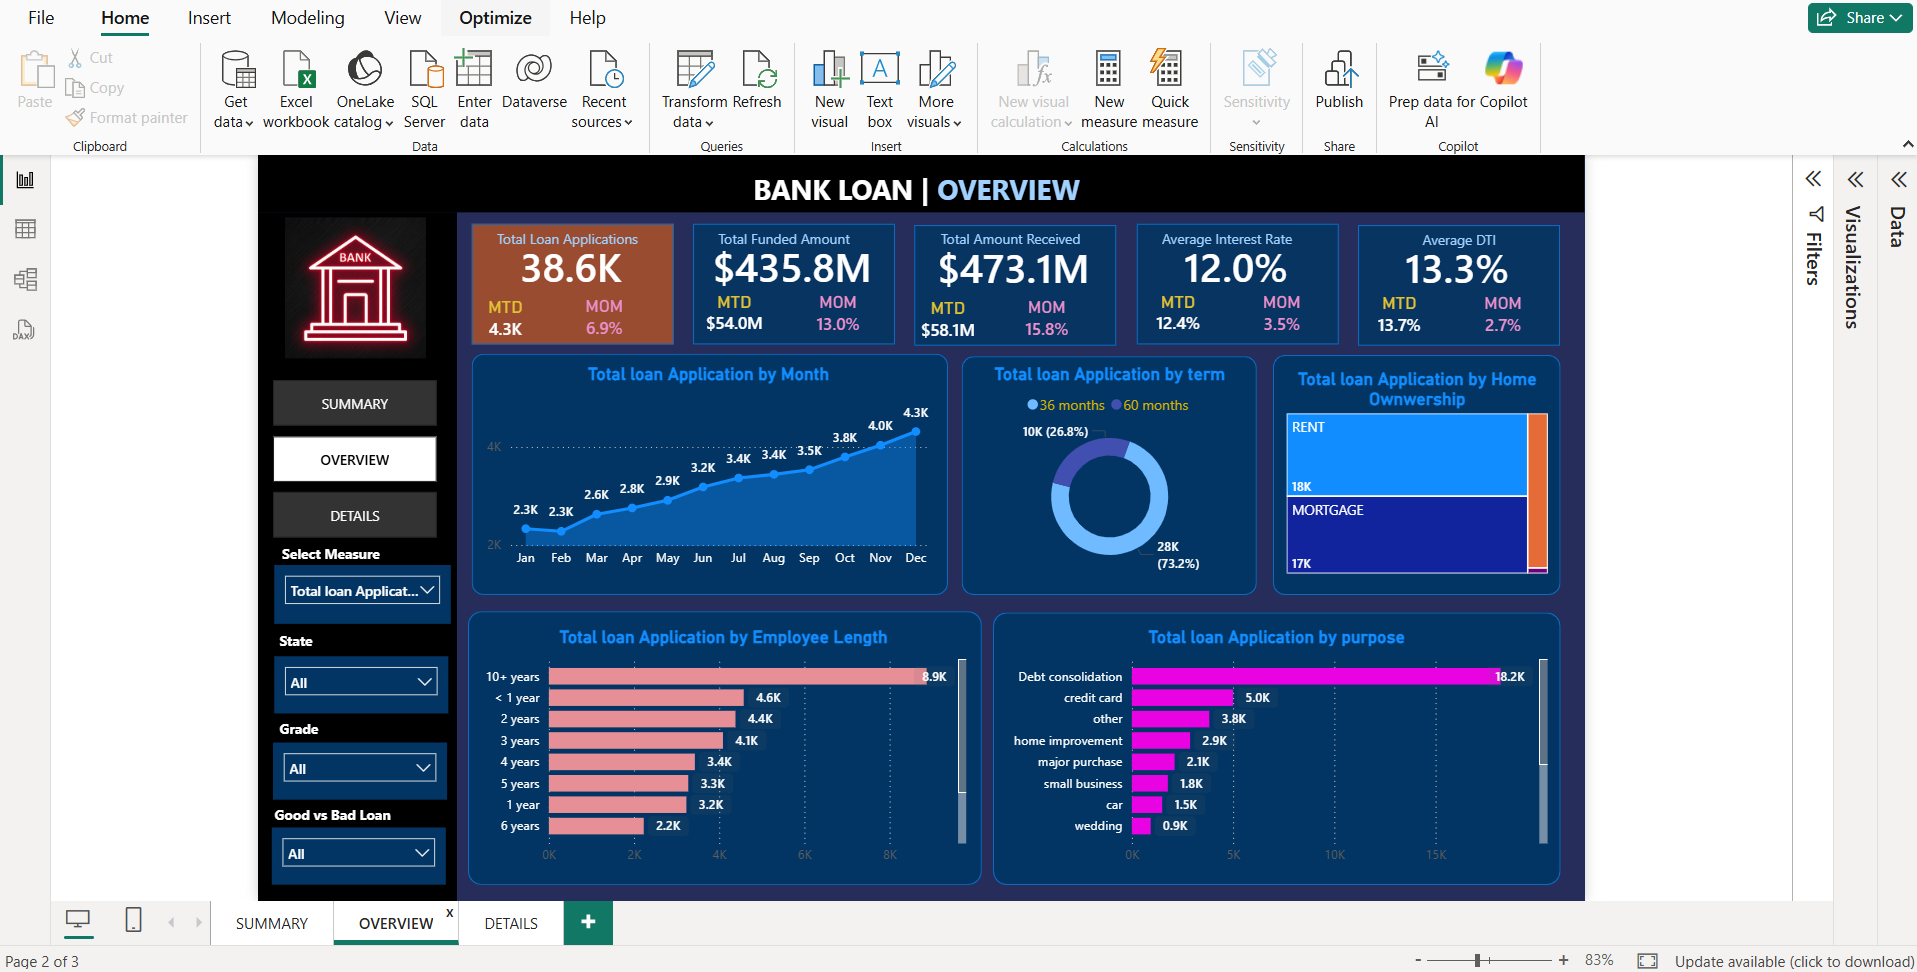

The page's visual inventory and layout, read from the dashboard file:
{"tool":"powerbi","page":{"name":"OVERVIEW","canvas":[1280,720],"ordinal":1},"visuals":[{"type":"shape","box":[0,55.3,191.8,664.7],"z":0},{"type":"shape","box":[0,0,1280,55.5],"z":1000},{"type":"group","id":"g1","title":"Group 1","box":[193.8,66.7,216.1,117.3],"z":2000},{"type":"shape","box":[206.1,66.7,195,116.5],"z":3000,"group":"g1"},{"type":"group","id":"g2","title":"Group 1","box":[407.7,66.7,216.1,116],"z":3000},{"type":"shape","box":[420,66.7,195,116.5],"z":3000,"group":"g2"},{"type":"shape","box":[847.8,66.7,195,116.5],"z":3000,"group":"g4"},{"type":"shape","box":[1061.7,67.9,195,116.5],"z":3000,"group":"g5"},{"type":"shape","box":[633.9,68.1,195,116.5],"z":3000,"group":"g3"},{"type":"group","id":"g3","title":"Group 1","box":[621.6,66.7,216.1,118.5],"z":4000},{"type":"card","fields":{"Values":["bank_loan_data.Total loan Application"]},"box":[193.8,72.8,215.8,69.9],"z":4000,"group":"g1"},{"type":"card","fields":{"Values":["bank_loan_data.Total_Funded_Amount"]},"box":[407.7,72.8,215.8,69.9],"z":4000,"group":"g2"},{"type":"card","fields":{"Values":["bank_loan_data.Avg Intrest Rate"]},"box":[835.5,72.8,215.8,69.9],"z":4000,"group":"g4"},{"type":"card","fields":{"Values":["bank_loan_data.Avg dti"]},"box":[1049.4,74,215.8,69.9],"z":4000,"group":"g5"},{"type":"card","fields":{"Values":["bank_loan_data.Total Amount Received"]},"box":[621.6,74.2,215.8,69.9],"z":4000,"group":"g3"},{"type":"textbox","box":[225.7,66.7,157,34.3],"z":5000,"group":"g1"},{"type":"textbox","box":[439.6,66.7,157,34.3],"z":5000,"group":"g2"},{"type":"textbox","box":[654.1,66.7,160.5,35.8],"z":5000,"group":"g3"},{"type":"group","id":"g4","title":"Group 1","box":[835.5,66.7,216.1,116],"z":5000},{"type":"textbox","box":[867.4,66.7,157,34.3],"z":5000,"group":"g4"},{"type":"textbox","box":[1081.3,67.9,157,34.3],"z":5000,"group":"g5"},{"type":"textbox","box":[18.1,370.4,155.7,34.3],"z":5000,"group":"g8"},{"type":"textbox","box":[15.7,454.8,155.7,34.3],"z":5000,"group":"g7"},{"type":"textbox","box":[15.7,539.3,155.7,34.3],"z":5000,"group":"g6"},{"type":"textbox","box":[10.9,622.5,155.6,35],"z":6000},{"type":"group","id":"g5","title":"Group 1","box":[1049.4,67.9,216.1,116],"z":7000},{"type":"card","title":"MTD","fields":{"Values":["bank_loan_data.MTD Funded Amount"]},"box":[427.2,131.6,65.4,46.9],"z":7000,"group":"g2"},{"type":"card","title":"MTD","fields":{"Values":["bank_loan_data.MTD Average Intrest Rate"]},"box":[855,131.6,65.4,46.9],"z":7000,"group":"g4"},{"type":"card","title":"MTD","fields":{"Values":["bank_loan_data.MTD Average DTI"]},"box":[1068.9,132.8,65.4,46.9],"z":7000,"group":"g5"},{"type":"card","title":"MTD","fields":{"Values":["bank_loan_data.MTD Loan Applications"]},"box":[206.1,136.6,65,47.8],"z":7000,"group":"g1"},{"type":"card","title":"MTD","fields":{"Values":["bank_loan_data.MTD Total Amount Recieved"]},"box":[633.9,138,65,47.8],"z":7000,"group":"g3"},{"type":"shape","box":[206.3,191.8,459.7,232.8],"z":8000},{"type":"card","title":"MOM","fields":{"Values":["bank_loan_data.MoM Funded Amount"]},"box":[527.2,131.6,65.4,48.1],"z":8001,"group":"g2"},{"type":"card","title":"MOM","fields":{"Values":["bank_loan_data.MoM Average Intrest Rate"]},"box":[955,131.6,65.4,48.1],"z":8001,"group":"g4"},{"type":"card","title":"MOM","fields":{"Values":["bank_loan_data.MoM Average DTI"]},"box":[1168.9,132.8,65.4,48.1],"z":8001,"group":"g5"},{"type":"card","title":"MOM","fields":{"Values":["bank_loan_data.MoM Loan Application"]},"box":[301.3,135.1,65.4,48.1],"z":8001,"group":"g1"},{"type":"card","title":"MOM","fields":{"Values":["bank_loan_data.MoM Total Amount Recieved"]},"box":[729.1,136.5,65.4,48.1],"z":8001,"group":"g3"},{"type":"areaChart","fields":{"Y":["bank_loan_data.Total_Funded_Amount"],"Category":["Date Table.Month"]},"box":[216,201.5,437.9,205.1],"z":9000},{"type":"slicer","fields":{"Values":["bank_loan_data.address_state"]},"box":[15.7,483.8,167.7,55.5],"z":10000},{"type":"slicer","fields":{"Values":["bank_loan_data.grade"]},"box":[14.5,567,167.7,55.5],"z":11000},{"type":"textbox","box":[472.9,9.7,333,45.8],"z":12000},{"type":"slicer","fields":{"Values":["Select Measure.Select Measure"]},"box":[15.7,395.7,170.1,56.7],"z":13000},{"type":"group","id":"g6","title":"Group 1","box":[15.7,539.3,155.6,33.8],"z":14000},{"type":"slicer","fields":{"Values":["bank_loan_data.Good vs Bad Loan"]},"box":[13.3,649.1,167.7,55.5],"z":15000},{"type":"group","id":"g7","title":"Group 1","box":[15.7,454.8,155.6,35],"z":16000},{"type":"group","id":"g8","title":"Group 1","box":[18.1,370.4,155.6,33.8],"z":17000},{"type":"shape","box":[679.2,194.2,284.7,230.4],"z":18000},{"type":"donutChart","fields":{"Y":["bank_loan_data.Total_Funded_Amount"],"Category":["bank_loan_data.term"]},"box":[688.9,201.5,266.6,207.5],"z":19000},{"type":"shape","box":[202.7,440.4,495.8,264.2],"z":20000},{"type":"barChart","fields":{"Y":["bank_loan_data.Total_Funded_Amount"],"Category":["bank_loan_data.emp_length"]},"box":[209.9,454.8,479,238.9],"z":21000},{"type":"shape","box":[709.4,441.6,547.7,263],"z":22000},{"type":"shape","box":[979.6,193,277.5,231.6],"z":23000},{"type":"clusteredBarChart","fields":{"Y":["bank_loan_data.Total_Funded_Amount"],"Category":["bank_loan_data.purpose"]},"box":[716.6,454.8,533.2,238.9],"z":24000},{"type":"treemap","fields":{"Values":["bank_loan_data.Total_Funded_Amount"],"Group":["bank_loan_data.home_ownership"]},"box":[988.1,206.3,261.8,202.7],"z":25000},{"type":"image","box":[8.4,55.5,171.3,146],"z":26000},{"type":"pageNavigator","box":[14.5,217.2,158,153.2],"z":27000}]}

Visuals, with their boxes on the page's 1280x720 design canvas (x1, y1, x2, y2). These are canvas units, not pixel positions in the 1917x972 screenshot, which may show the page scaled, cropped or inside an application window:
shape: bbox=[0, 55, 192, 720]
shape: bbox=[0, 0, 1280, 56]
"Group 1" group: bbox=[194, 67, 410, 184]
shape: bbox=[206, 67, 401, 183]
"Group 1" group: bbox=[408, 67, 624, 183]
shape: bbox=[420, 67, 615, 183]
shape: bbox=[848, 67, 1043, 183]
shape: bbox=[1062, 68, 1257, 184]
shape: bbox=[634, 68, 829, 185]
"Group 1" group: bbox=[622, 67, 838, 185]
card - bank_loan_data.Total loan Application: bbox=[194, 73, 410, 143]
card - bank_loan_data.Total_Funded_Amount: bbox=[408, 73, 624, 143]
card - bank_loan_data.Avg Intrest Rate: bbox=[836, 73, 1051, 143]
card - bank_loan_data.Avg dti: bbox=[1049, 74, 1265, 144]
card - bank_loan_data.Total Amount Received: bbox=[622, 74, 837, 144]
textbox: bbox=[226, 67, 383, 101]
textbox: bbox=[440, 67, 597, 101]
textbox: bbox=[654, 67, 815, 102]
"Group 1" group: bbox=[836, 67, 1052, 183]
textbox: bbox=[867, 67, 1024, 101]
textbox: bbox=[1081, 68, 1238, 102]
textbox: bbox=[18, 370, 174, 405]
textbox: bbox=[16, 455, 171, 489]
textbox: bbox=[16, 539, 171, 574]
textbox: bbox=[11, 622, 166, 658]
"Group 1" group: bbox=[1049, 68, 1266, 184]
"MTD" card: bbox=[427, 132, 493, 178]
"MTD" card: bbox=[855, 132, 920, 178]
"MTD" card: bbox=[1069, 133, 1134, 180]
"MTD" card: bbox=[206, 137, 271, 184]
"MTD" card: bbox=[634, 138, 699, 186]
shape: bbox=[206, 192, 666, 425]
"MOM" card: bbox=[527, 132, 593, 180]
"MOM" card: bbox=[955, 132, 1020, 180]
"MOM" card: bbox=[1169, 133, 1234, 181]
"MOM" card: bbox=[301, 135, 367, 183]
"MOM" card: bbox=[729, 136, 794, 185]
areaChart - bank_loan_data.Total_Funded_Amount x Date Table.Month: bbox=[216, 202, 654, 407]
slicer - bank_loan_data.address_state: bbox=[16, 484, 183, 539]
slicer - bank_loan_data.grade: bbox=[14, 567, 182, 622]
textbox: bbox=[473, 10, 806, 56]
slicer - Select Measure.Select Measure: bbox=[16, 396, 186, 452]
"Group 1" group: bbox=[16, 539, 171, 573]
slicer - bank_loan_data.Good vs Bad Loan: bbox=[13, 649, 181, 705]
"Group 1" group: bbox=[16, 455, 171, 490]
"Group 1" group: bbox=[18, 370, 174, 404]
shape: bbox=[679, 194, 964, 425]
donutChart - bank_loan_data.Total_Funded_Amount x bank_loan_data.term: bbox=[689, 202, 956, 409]
shape: bbox=[203, 440, 698, 705]
barChart - bank_loan_data.Total_Funded_Amount x bank_loan_data.emp_length: bbox=[210, 455, 689, 694]
shape: bbox=[709, 442, 1257, 705]
shape: bbox=[980, 193, 1257, 425]
clusteredBarChart - bank_loan_data.Total_Funded_Amount x bank_loan_data.purpose: bbox=[717, 455, 1250, 694]
treemap - bank_loan_data.Total_Funded_Amount x bank_loan_data.home_ownership: bbox=[988, 206, 1250, 409]
image: bbox=[8, 56, 180, 202]
pageNavigator: bbox=[14, 217, 172, 370]
